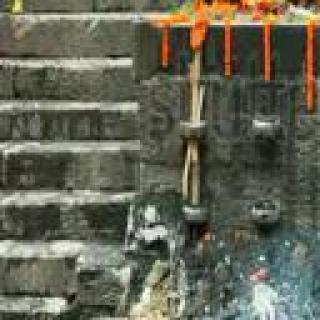fire: (243, 0, 320, 21)
